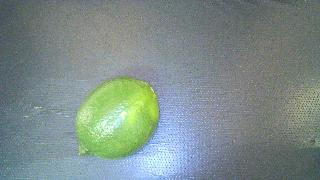EXPORTACION: (75, 77, 159, 159)
